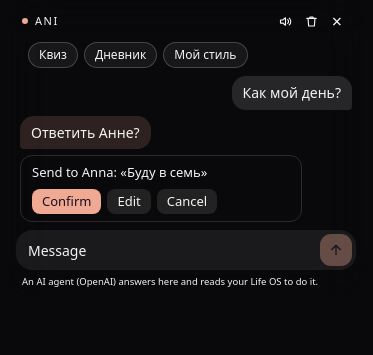
Test: AniChat › lets the person reword a Telegram message before Confirm
Click the button "Edit".
click(129, 201)  # box [108,189,151,214]
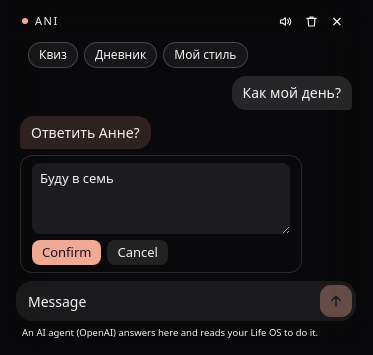
expect the text box named "The message" holds "Буду в семь": met
Replace the text in the text box named "The message" with "Буду в восемь" at {"x": 161, "y": 198}, box [32,163,290,234]
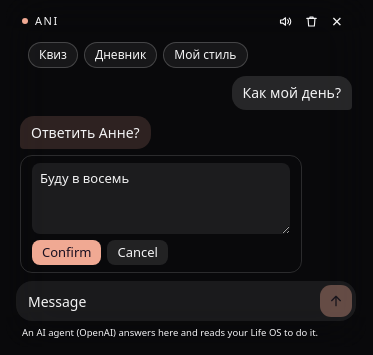
Click the button "Confirm".
click(67, 252)  # box [32,240,102,265]
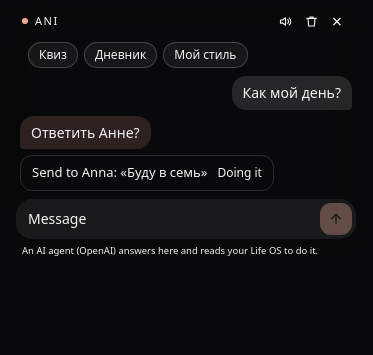
expect the text "Doing it" is shown: met, box [217,164,262,182]
